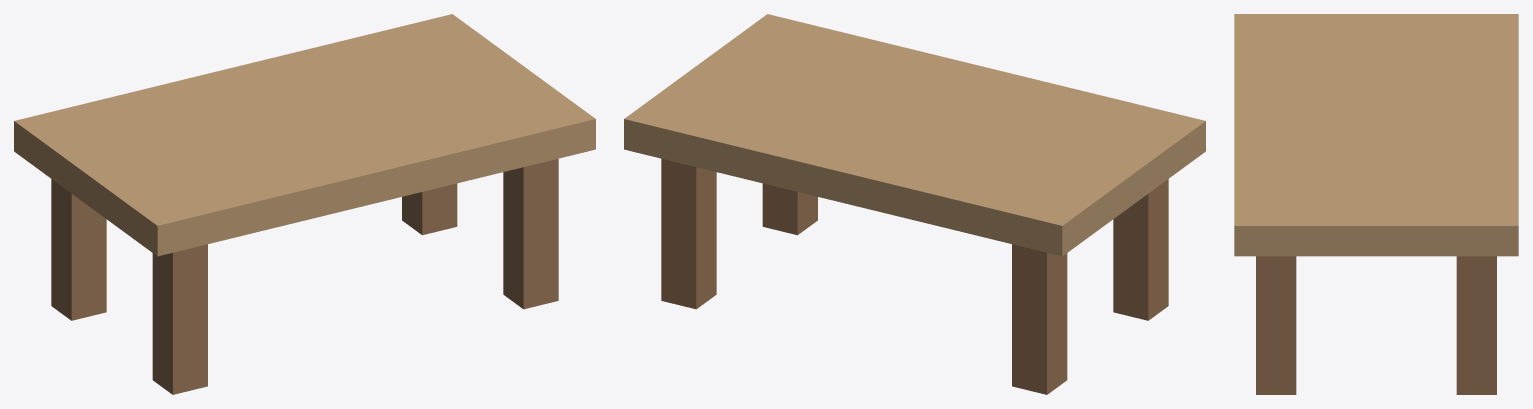
The model's file is work_table_salvage.glb.
The picture shows the model from 3 angles, left to right: view 1: azimuth 30°, elevation 25°; view 2: azimuth 150°, elevation 25°; view 3: azimuth 270°, elevation 25°; orthographic projection.
Visible parts, largest first — view 1: work_table_salvage; view 2: work_table_salvage; view 3: work_table_salvage.
Boxes of the visible parts, left/top/right/bottom form: work_table_salvage: left=14, top=14, right=595, bottom=394; work_table_salvage: left=624, top=14, right=1205, bottom=394; work_table_salvage: left=1234, top=14, right=1518, bottom=394.
Size of the model in its own units: 1.5 by 0.6 by 0.85.
